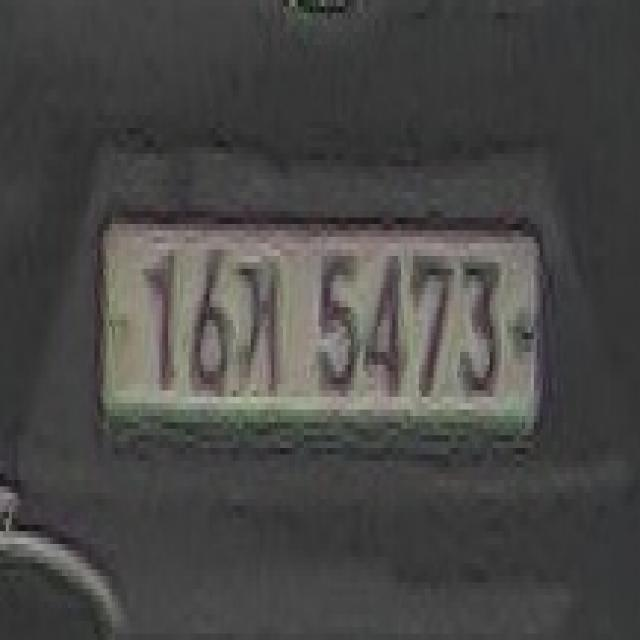1: (144, 237, 183, 397)
3: (454, 250, 507, 410)
4: (363, 237, 413, 416)
5: (310, 243, 366, 410)
6: (186, 230, 233, 404)
7: (410, 237, 454, 403)
geo: (236, 250, 289, 403)
license_plate: (89, 198, 552, 461)
